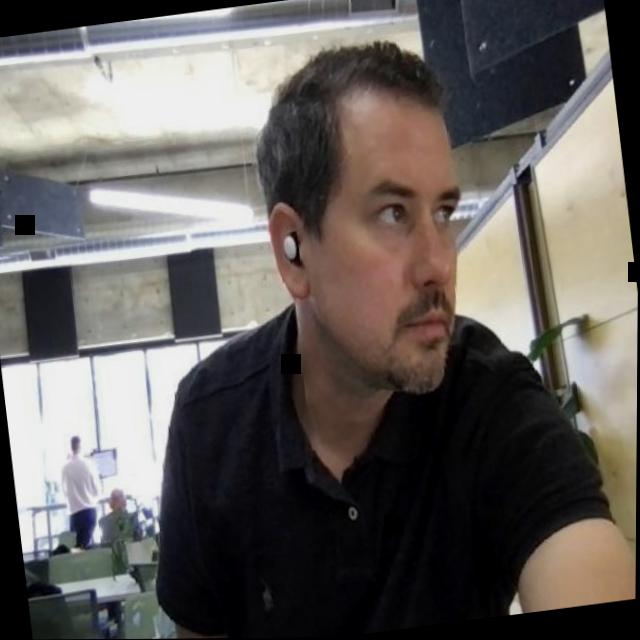NO-Mask: (243, 34, 485, 414)
